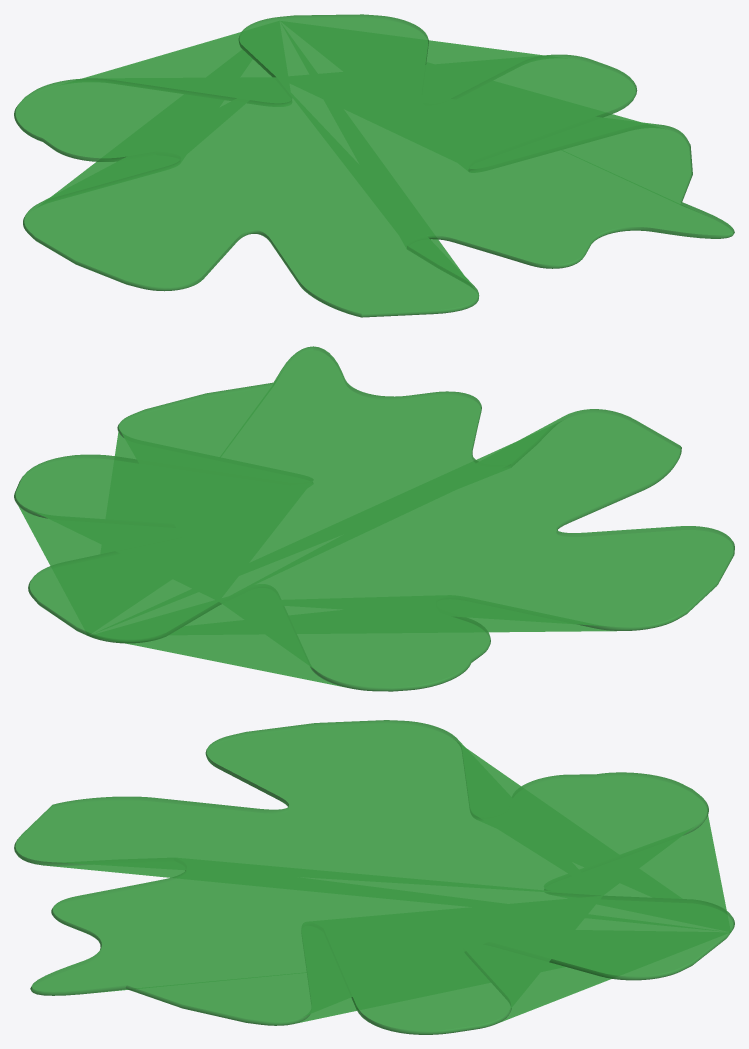
The model's file is Blood.fbx.
3 views of the same model, one above another, from view 1: azimuth 30°, elevation 25°; view 2: azimuth 150°, elevation 25°; view 3: azimuth 270°, elevation 25° (orthographic). The views are drawn at different scales.
Parts seen in each view (by area): view 1: Cylinder; view 2: Cylinder; view 3: Cylinder.
Boxes of the visible parts, bbox=[...] form: Cylinder: bbox=[14, 14, 734, 317]; Cylinder: bbox=[14, 346, 734, 691]; Cylinder: bbox=[14, 720, 734, 1034].
Bounding box in the file's own units: 201 × 1.2 × 196.
